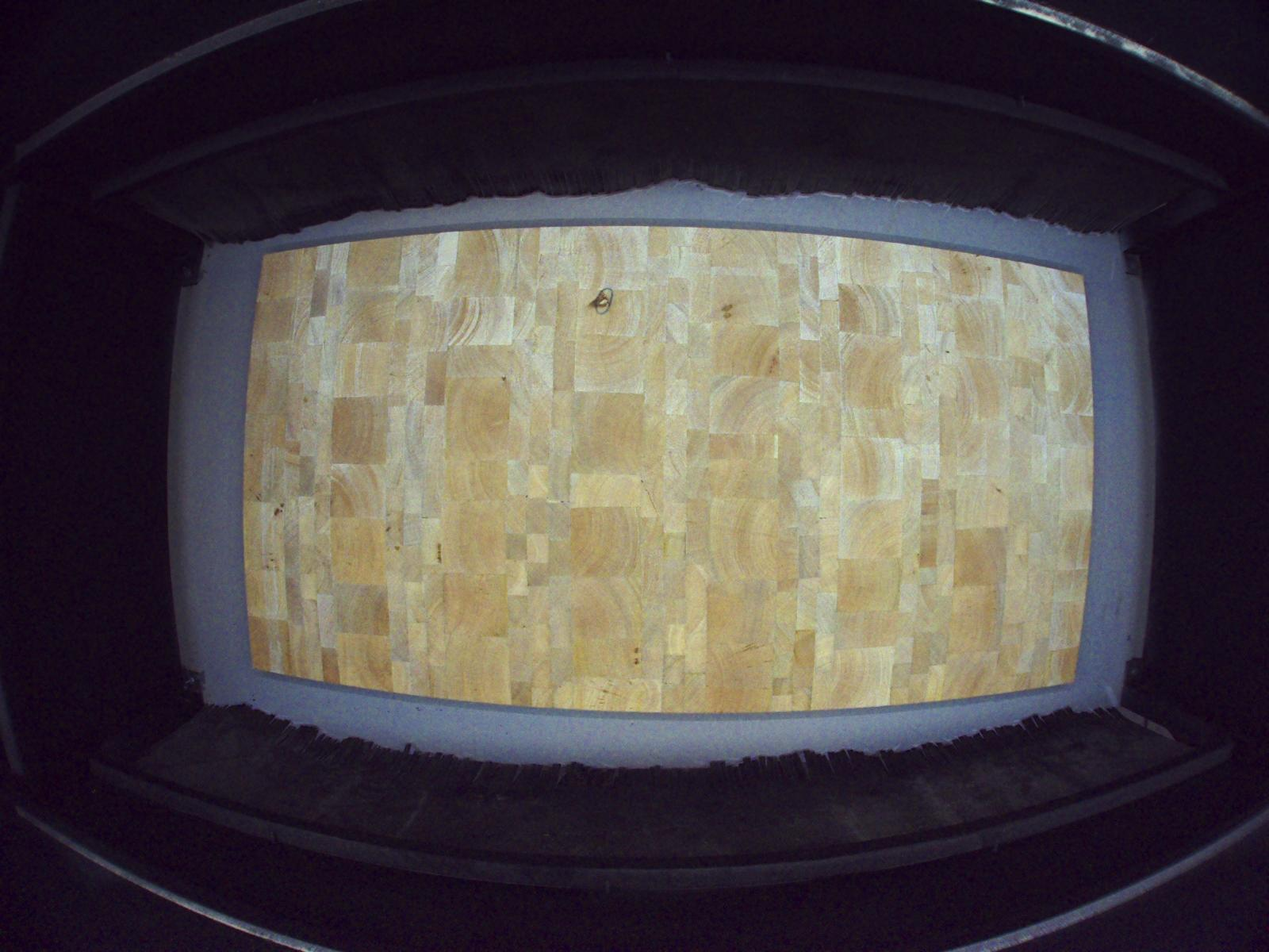nudillo: (587, 289, 611, 310)
